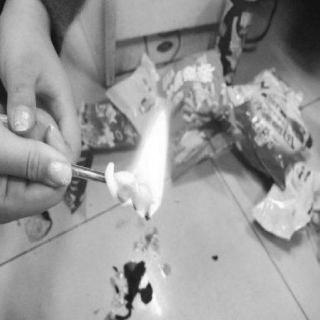Fire: (103, 104, 175, 224)
other: (227, 56, 317, 242), (120, 44, 239, 112)
